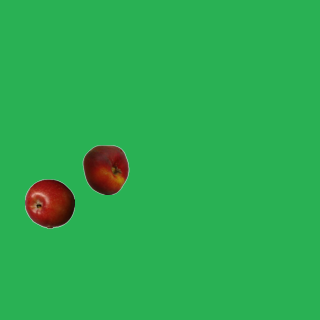Apple Braeburn: (24, 178, 74, 228)
Nectarine Flat: (80, 144, 130, 194)
